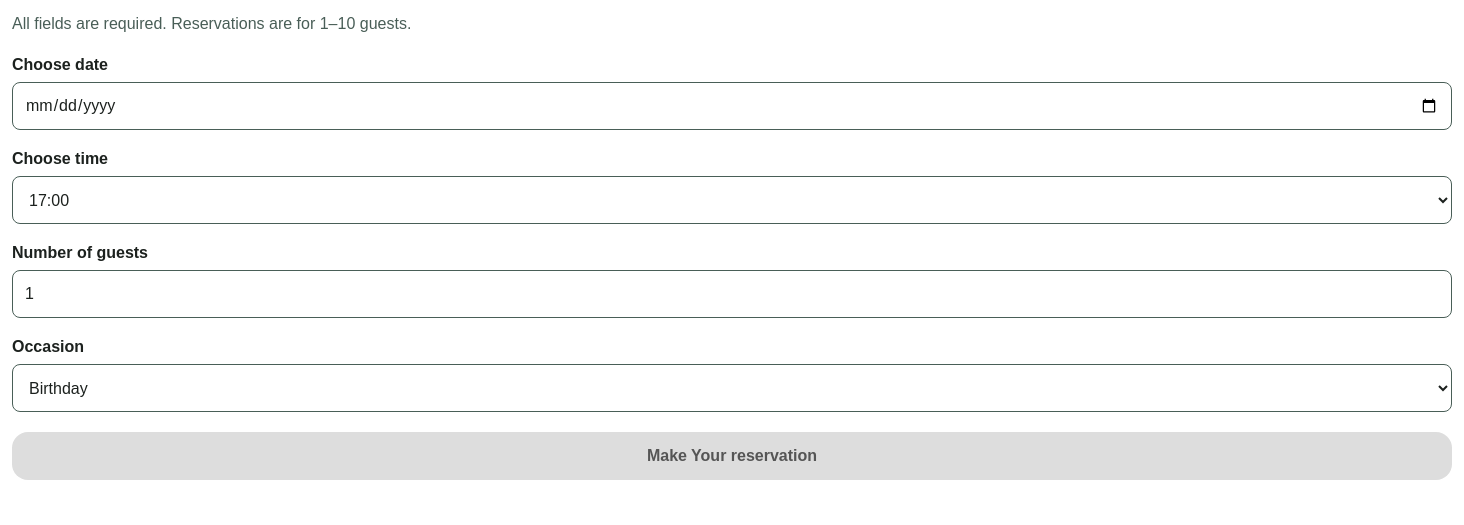
Scenario: blocks submission for invalid guest count "1.5"
Later steps or results of the test are not shown.
In the date field labelled "Choose date": (732, 106) [12,82,1452,130], type "2026-12-12"
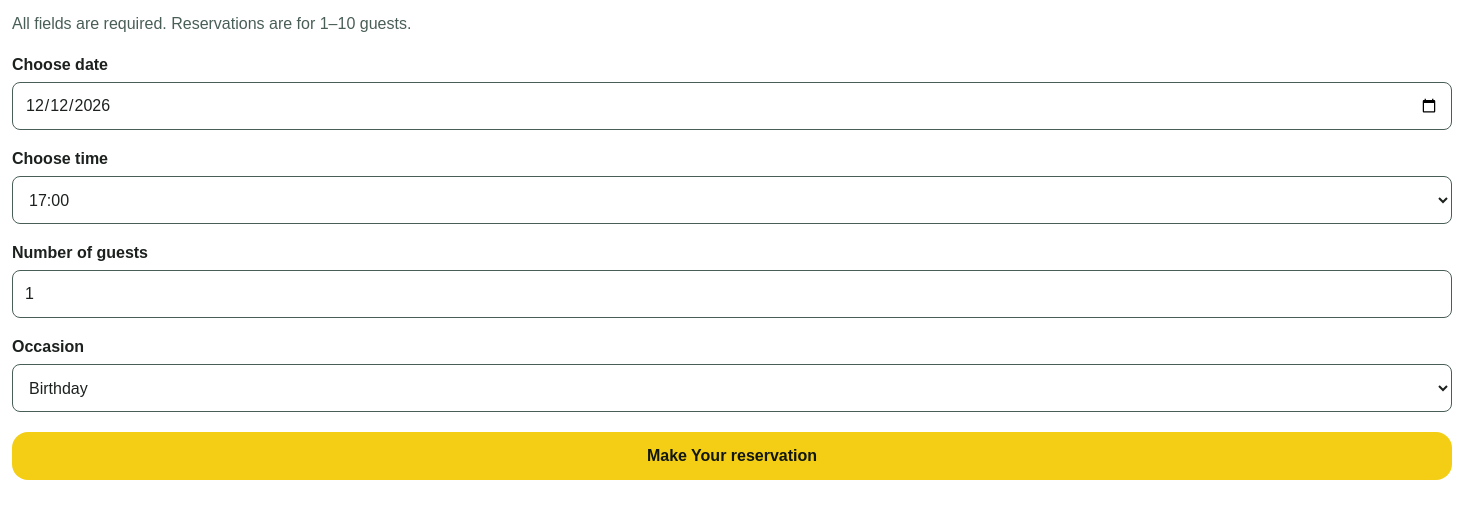
In the number field labelled "Number of guests": (732, 294) [12,270,1452,318], type "1.5"
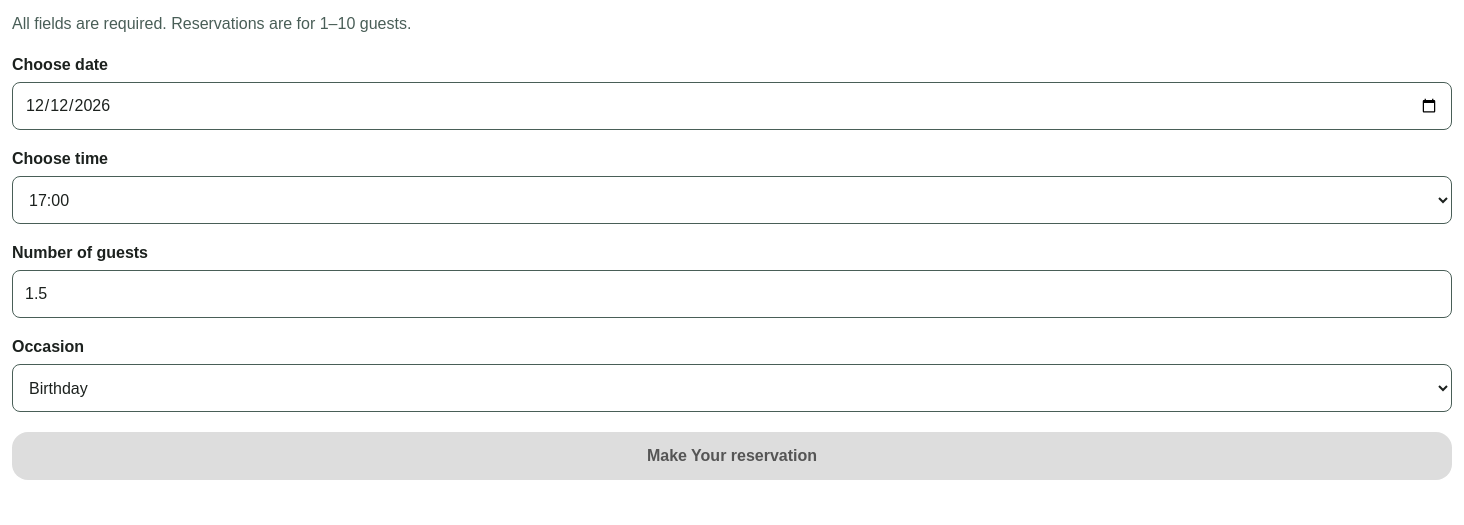
Leave the number field labelled "Number of guests", box [12,270,1452,318]
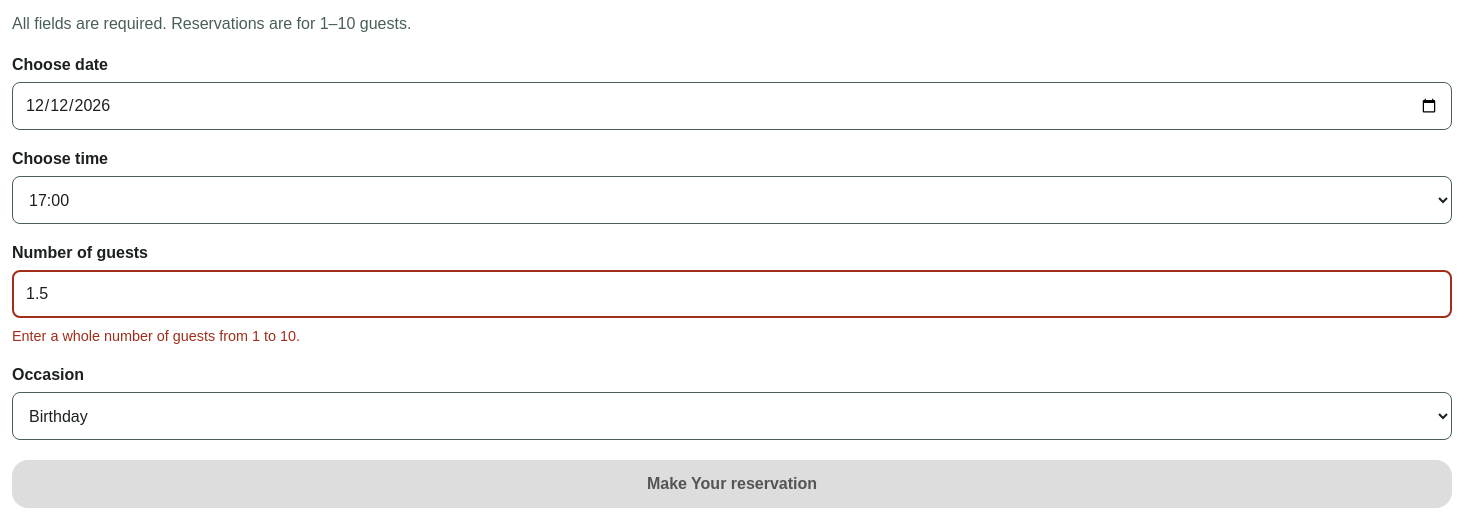
Result: the button "Make Your reservation" is disabled at [12,460,1452,508]
